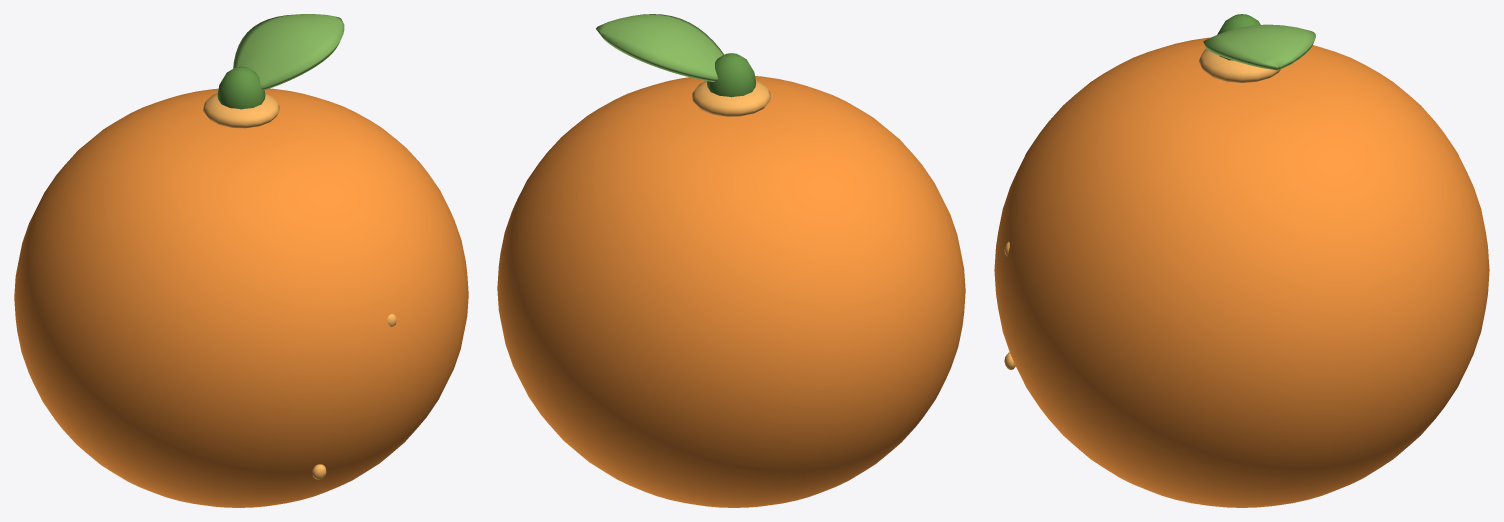
The model's file is orange.glb.
The picture shows the model from 3 angles, left to right: view 1: azimuth 30°, elevation 25°; view 2: azimuth 150°, elevation 25°; view 3: azimuth 270°, elevation 25°; orthographic projection. The views are drawn at different scales.
Visible parts, largest first — view 1: Orange | round fruit.001, Orange | small leaf.001, Orange | stem dimple.001, Orange | small green stem.001; view 2: Orange | round fruit.001, Orange | small leaf.001, Orange | stem dimple.001, Orange | small green stem.001; view 3: Orange | round fruit.001, Orange | small leaf.001, Orange | stem dimple.001.
Part boxes in pixels (left/top/right/bottom): Orange | round fruit.001: left=14, top=88, right=468, bottom=507; Orange | small leaf.001: left=233, top=14, right=344, bottom=90; Orange | stem dimple.001: left=203, top=93, right=279, bottom=128; Orange | small green stem.001: left=217, top=66, right=265, bottom=109; Orange | round fruit.001: left=497, top=76, right=965, bottom=507; Orange | small leaf.001: left=595, top=14, right=723, bottom=81; Orange | stem dimple.001: left=692, top=80, right=770, bottom=116; Orange | small green stem.001: left=706, top=53, right=756, bottom=97; Orange | round fruit.001: left=994, top=37, right=1489, bottom=507; Orange | small leaf.001: left=1203, top=24, right=1315, bottom=70; Orange | stem dimple.001: left=1199, top=49, right=1280, bottom=82.
Size of the model in its own units: 1.24 by 1.3 by 1.2.
